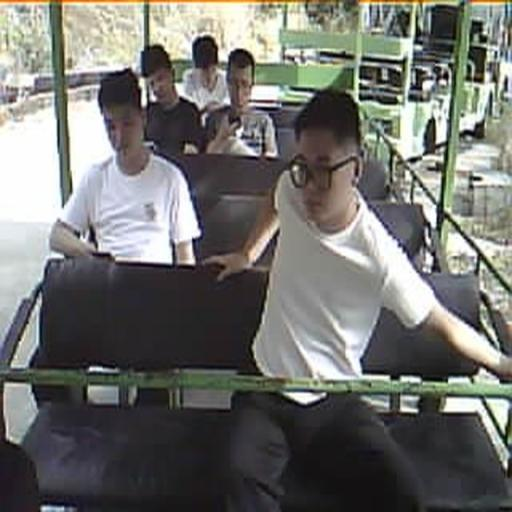persona: (202, 85, 511, 510), (49, 67, 203, 268), (204, 48, 279, 158), (137, 43, 207, 156), (180, 34, 230, 114)
